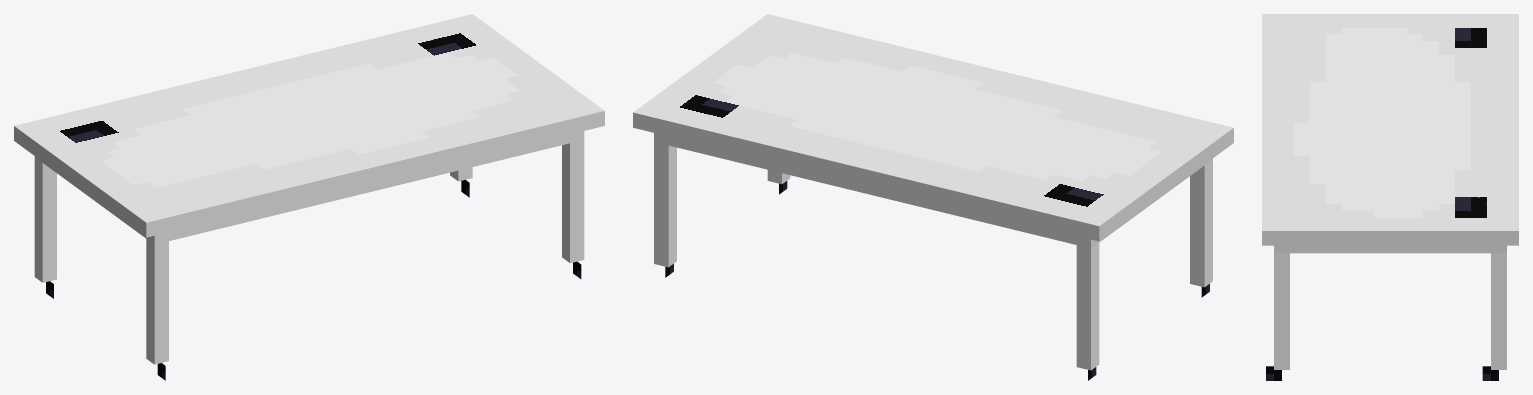
The model's file is ClassTable.glb.
3 renders of one model, left to right at view 1: azimuth 30°, elevation 25°; view 2: azimuth 150°, elevation 25°; view 3: azimuth 270°, elevation 25°, orthographic. The views are drawn at different scales.
Visible parts, largest first — view 1: Table; view 2: Table; view 3: Table.
Boxes of the visible parts, x1=… form: Table: x1=14, y1=14, x2=604, y2=380; Table: x1=633, y1=14, x2=1233, y2=380; Table: x1=1262, y1=14, x2=1518, y2=380.
Bounding box in the file's own units: 2 × 0.6875 × 1.
1 material, 1 textured.
